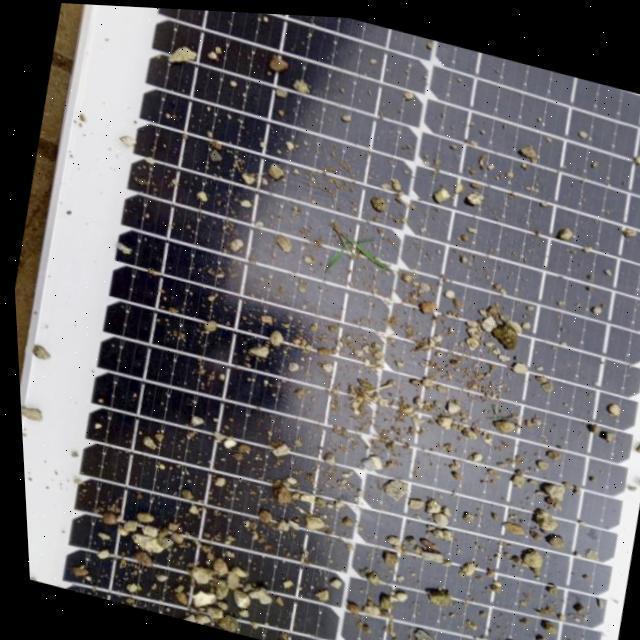Surface Contaminant: (22, 5, 640, 640)
